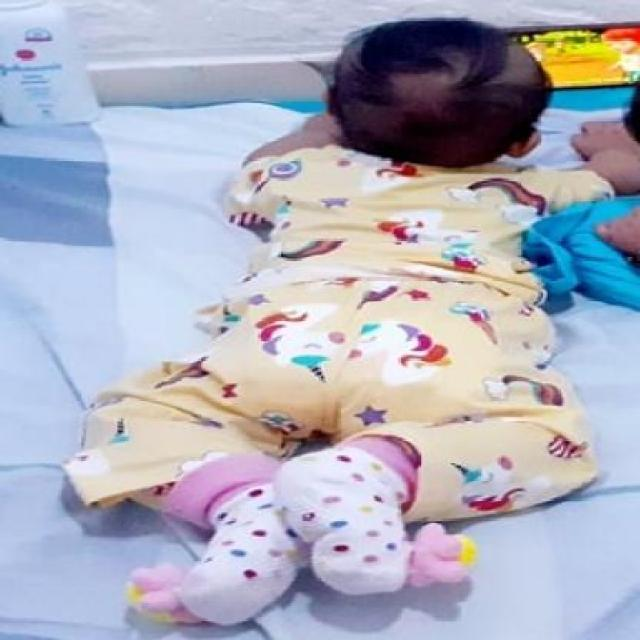child: (78, 14, 594, 614)
